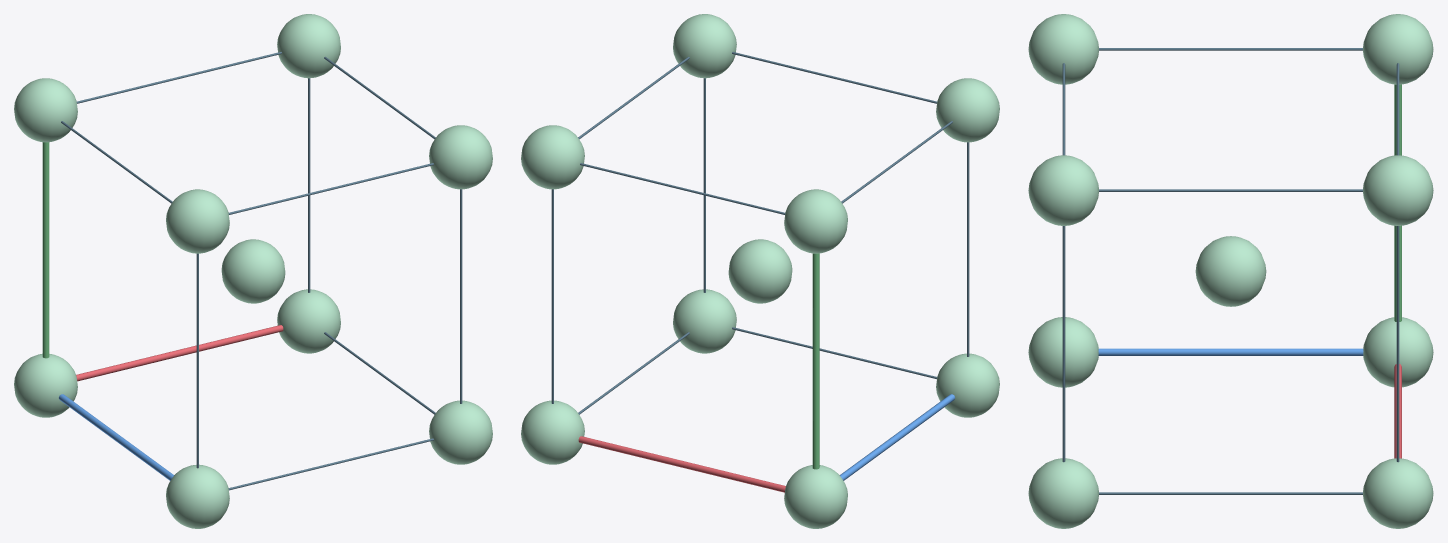
Rendered from nguyen-to-v.glb.
3 renders of one model, left to right at view 1: azimuth 30°, elevation 25°; view 2: azimuth 150°, elevation 25°; view 3: azimuth 270°, elevation 25°, orthographic. The views are drawn at different scales.
Visible parts, largest first — view 1: V · V · 1 (×9), Ô mạng và các trục a, b, c; view 2: V · V · 1 (×9), Ô mạng và các trục a, b, c; view 3: V · V · 1 (×9), Ô mạng và các trục a, b, c.
Part boxes in pixels (x1,y1,x2,y2): V · V · 1 (×9): (14, 14, 492, 528); Ô mạng và các trục a, b, c: (42, 52, 462, 490); V · V · 1 (×9): (521, 14, 999, 528); Ô mạng và các trục a, b, c: (551, 52, 969, 492); V · V · 1 (×9): (1028, 14, 1433, 528); Ô mạng và các trục a, b, c: (1062, 48, 1401, 494).
Bounding box in the file's own units: 3.66 × 3.66 × 3.66.
